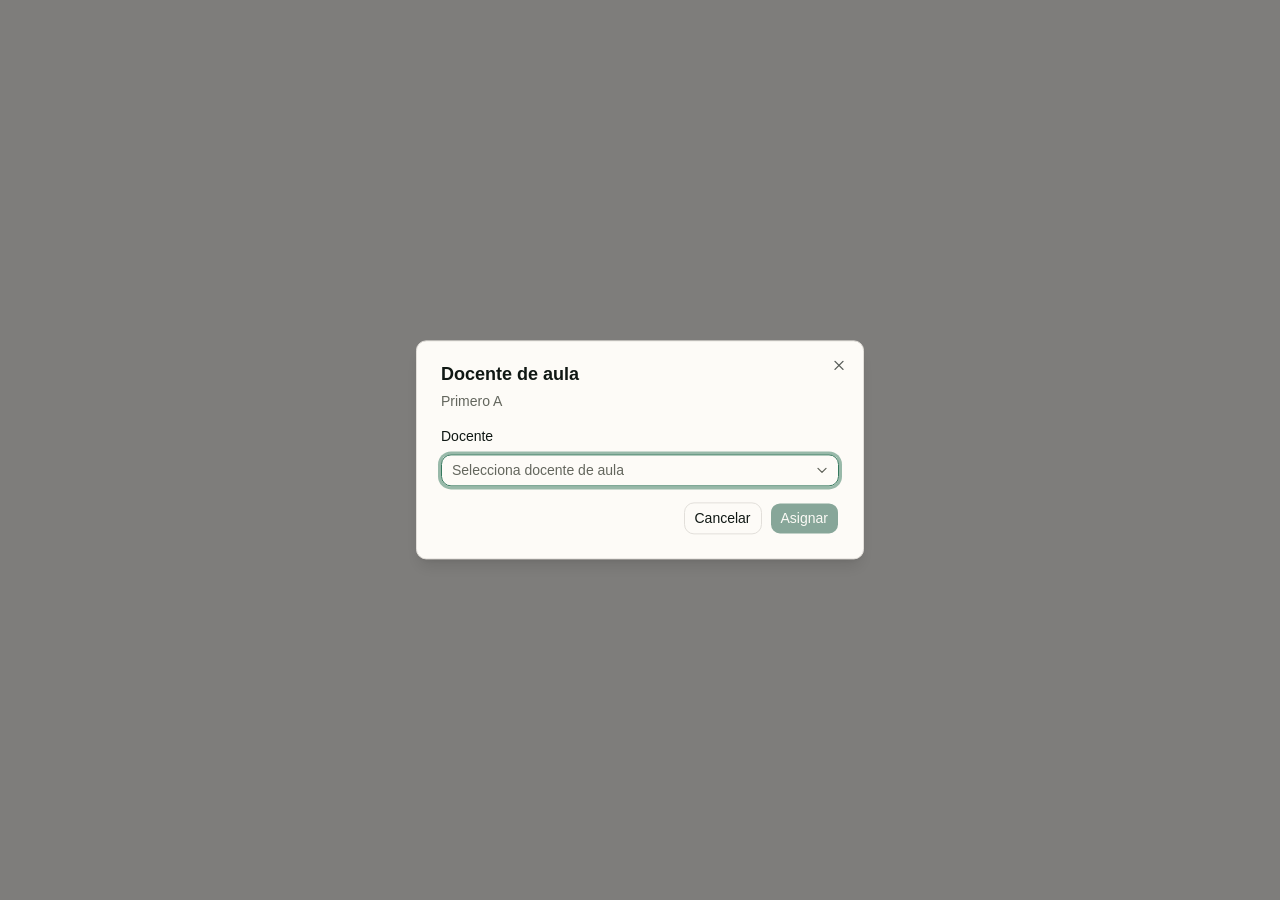
Test: SetHomeroomDialog, curso sin docente de aula › avisa y no deja asignar a un docente que ya tiene otro curso
Click the dropdown. click: (538, 471)
box: x1=441 y1=455 x2=839 y2=487
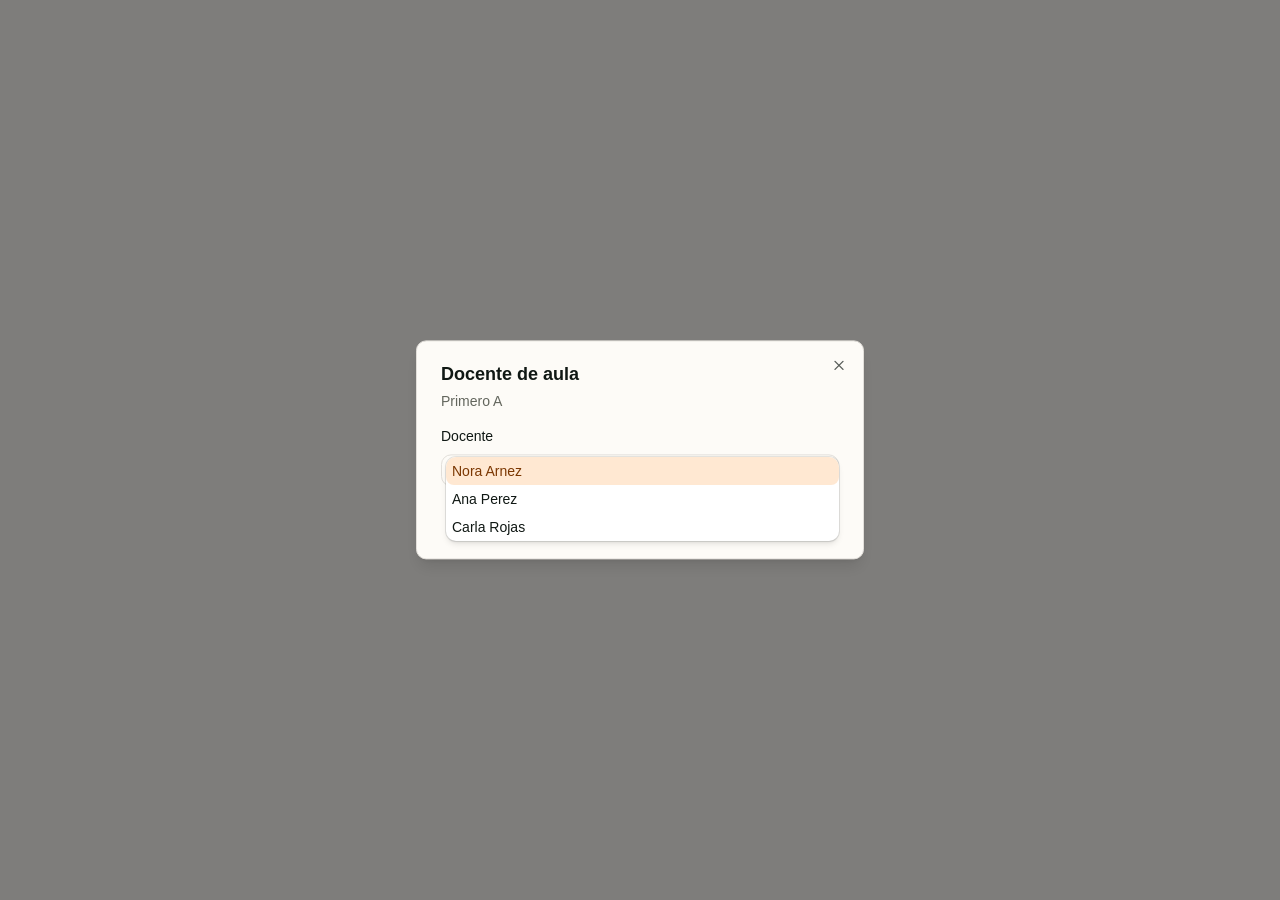
Click the option "Ana Perez". click: (485, 499)
box: x1=452 y1=491 x2=517 y2=507
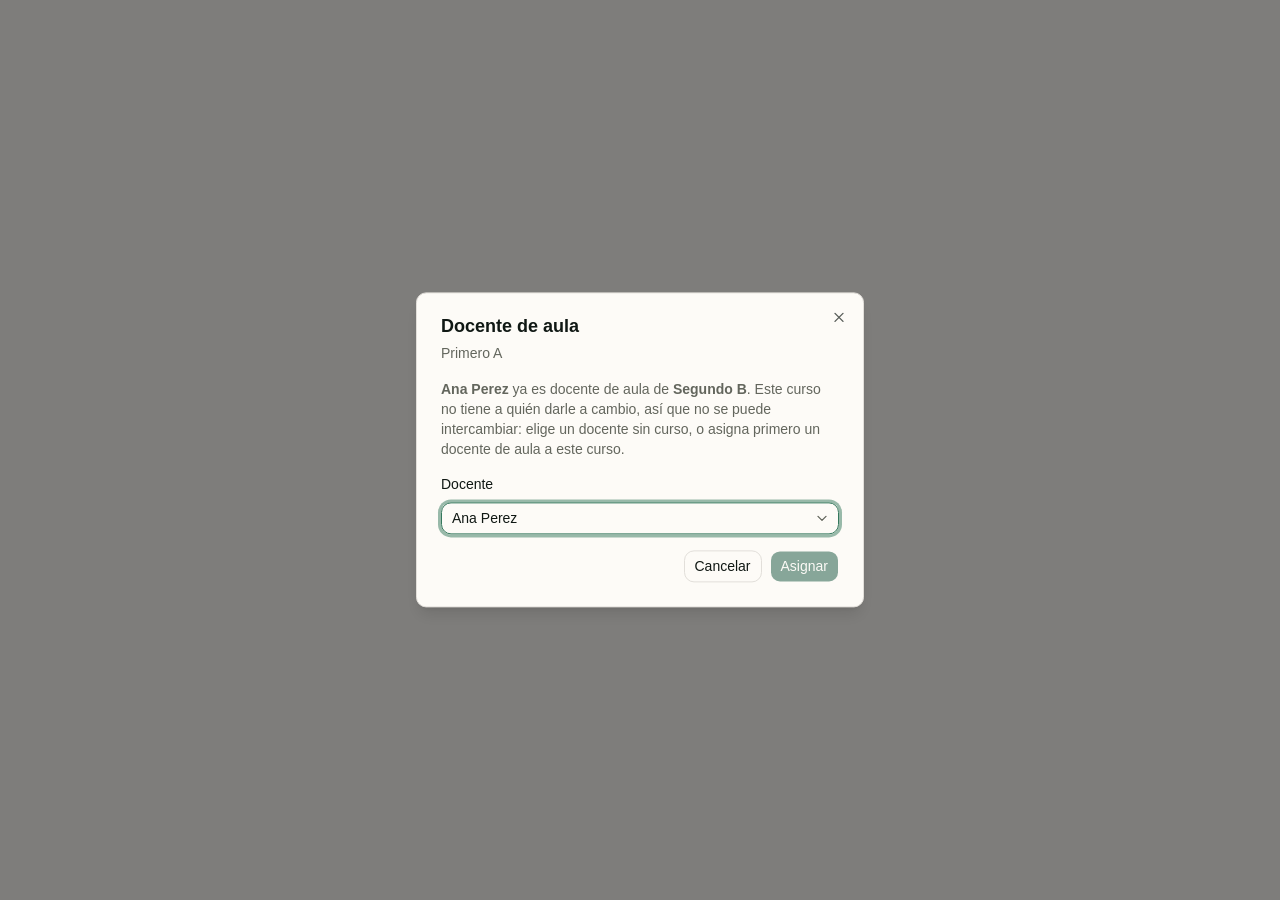
Expected: the button "Asignar" is disabled, x1=770 y1=551 x2=839 y2=583
Result: the text "Segundo B" is shown at x1=673 y1=381 x2=747 y2=397
